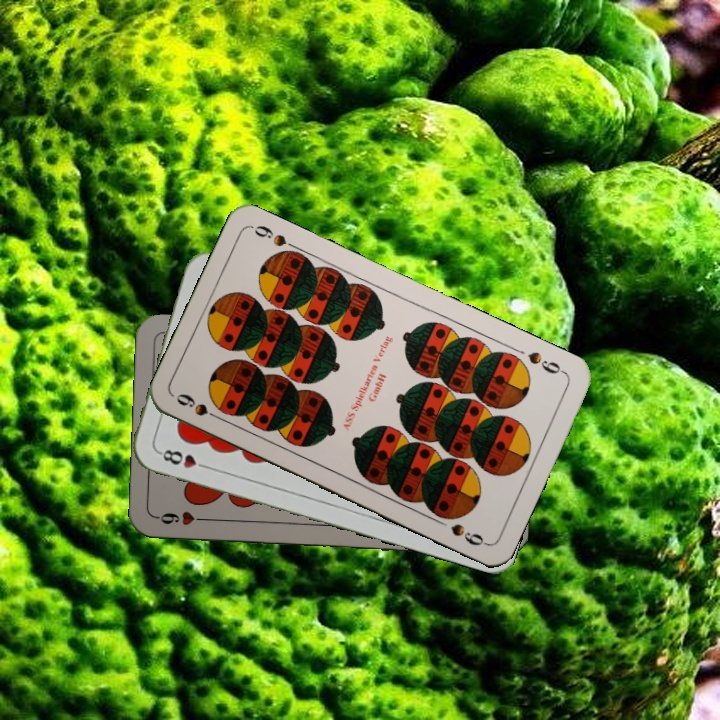H8: (155, 445, 213, 472)
H9: (153, 508, 212, 528)
S9: (172, 389, 227, 424), (523, 347, 569, 377)
